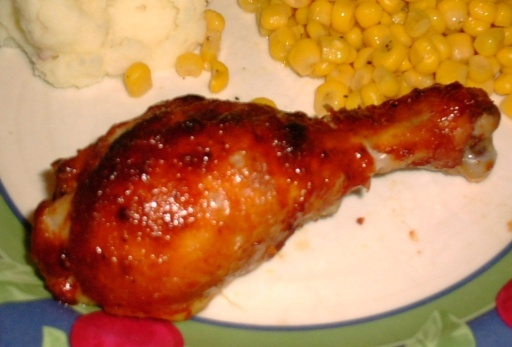background: (22, 0, 409, 175), (11, 0, 182, 51)
